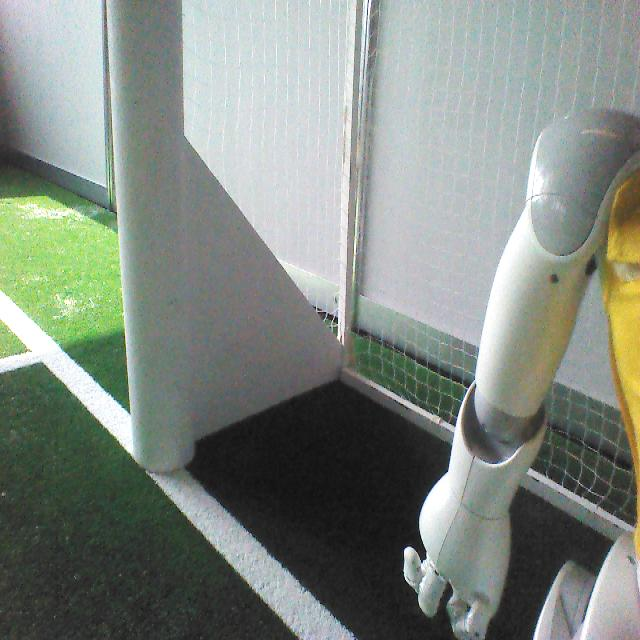goalpost: (104, 0, 196, 471)
